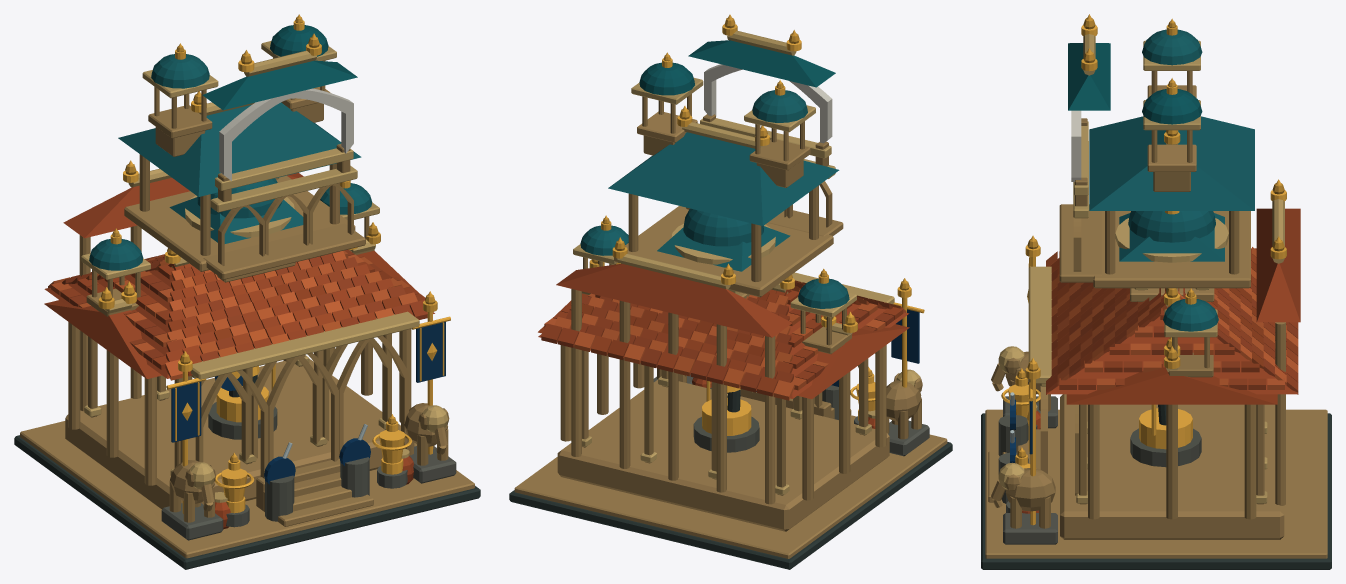
3 renders of one model, left to right at view 1: azimuth 30°, elevation 25°; view 2: azimuth 150°, elevation 25°; view 3: azimuth 270°, elevation 25°, orthographic. The views are drawn at different scales.
Parts seen in each view (by area): view 1: hero_hall_level13_structure, hero_hall_level13_metal; view 2: hero_hall_level13_structure, hero_hall_level13_metal; view 3: hero_hall_level13_structure, hero_hall_level13_metal.
Part boxes in pixels (left/top/right/bottom): hero_hall_level13_structure: left=14, top=17, right=480, bottom=569; hero_hall_level13_metal: left=98, top=14, right=450, bottom=513; hero_hall_level13_structure: left=509, top=18, right=952, bottom=569; hero_hall_level13_metal: left=589, top=14, right=924, bottom=435; hero_hall_level13_structure: left=981, top=18, right=1331, bottom=569; hero_hall_level13_metal: left=1001, top=14, right=1286, bottom=525.
Size of the model in its own units: 5.6 by 8.2 by 5.6.
